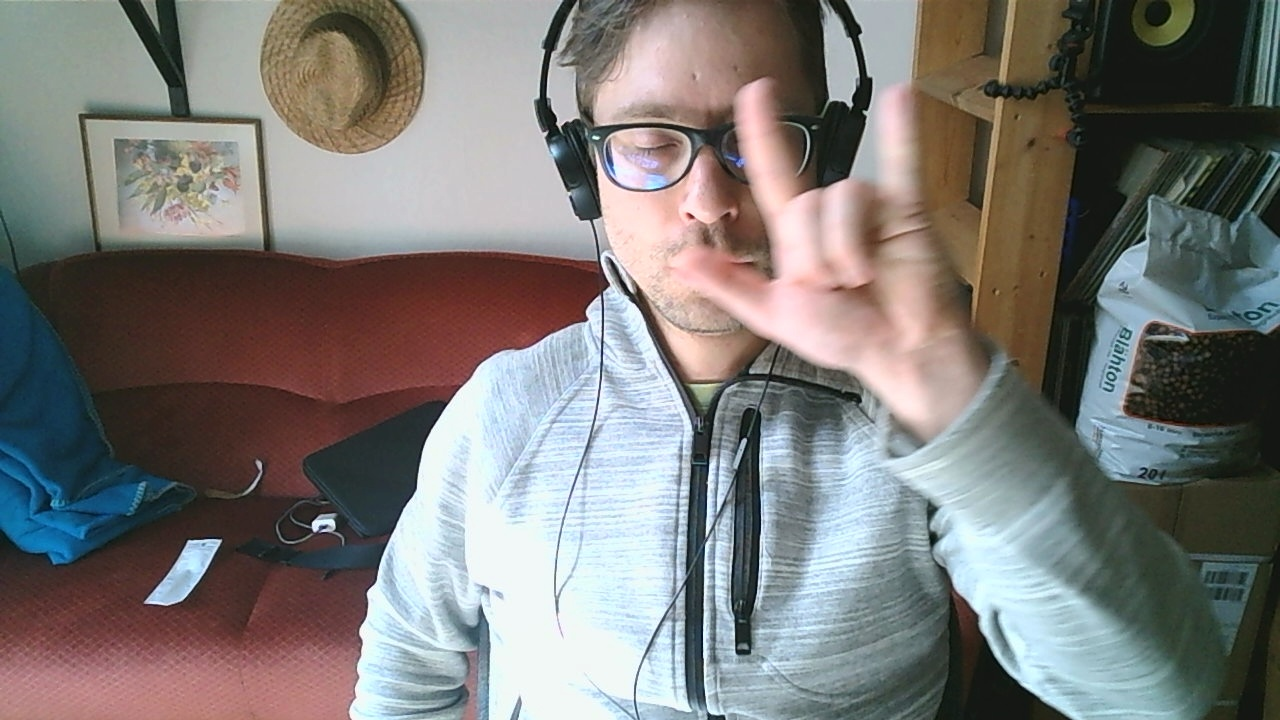iloveyou: (674, 76, 959, 375)
